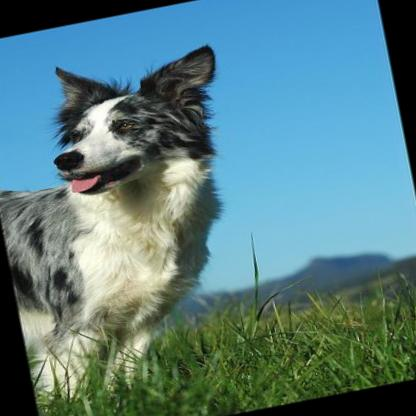Border_collie: (0, 34, 274, 411)
